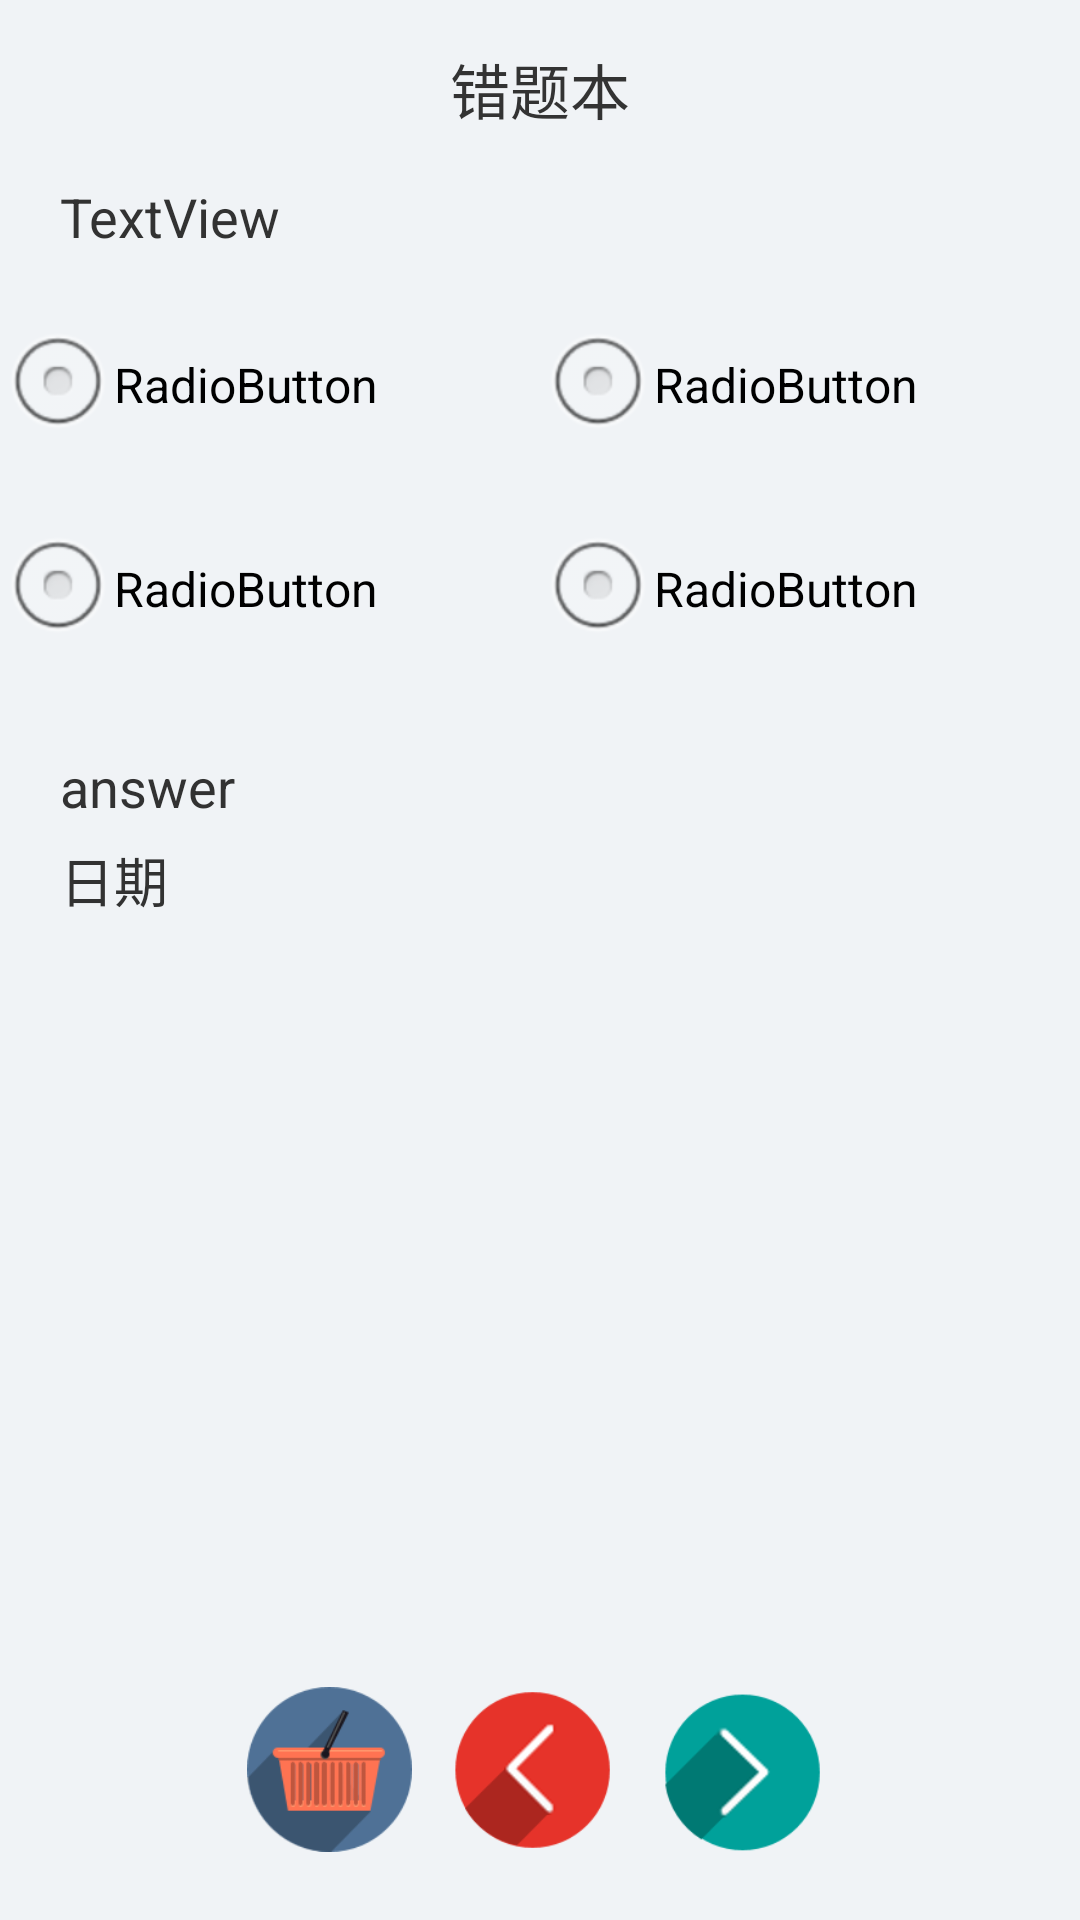

Icons on this 1080 x 1920 Android screen, each with its box as {"x1": x1, "y1": y1, "x2": x2, "y2": y2}:
left: {"x1": 455, "y1": 1692, "x2": 610, "y2": 1848}
right: {"x1": 665, "y1": 1694, "x2": 820, "y2": 1851}
